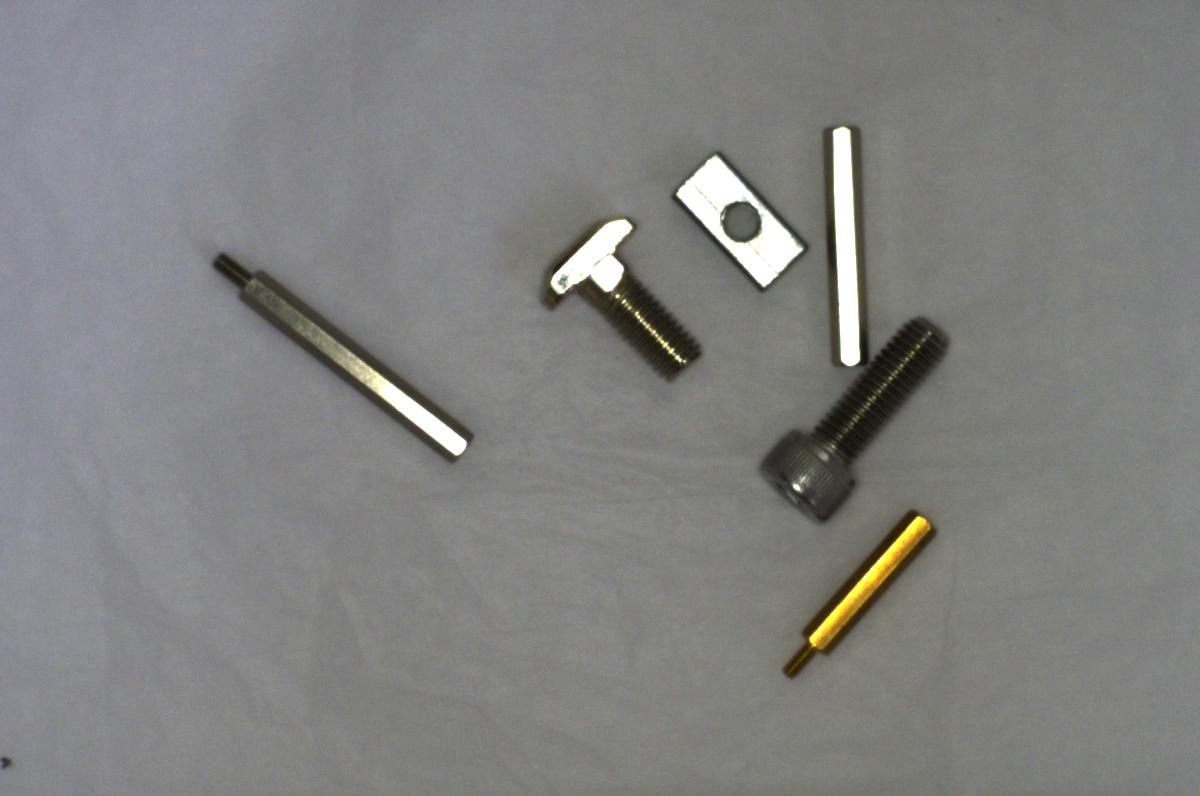Double hexagonal column: (819, 118, 871, 370)
Hexagon pillar: (782, 510, 935, 679)
Hexagon screw: (757, 305, 951, 522)
Hexagonal steel column: (199, 243, 485, 469)
Rectangular nut: (672, 148, 808, 294)
T-shaped screw: (540, 209, 693, 382)
